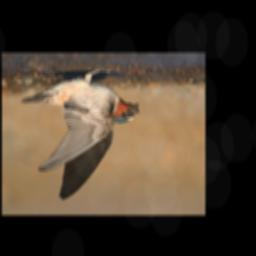Swallow: (19, 68, 140, 200)
